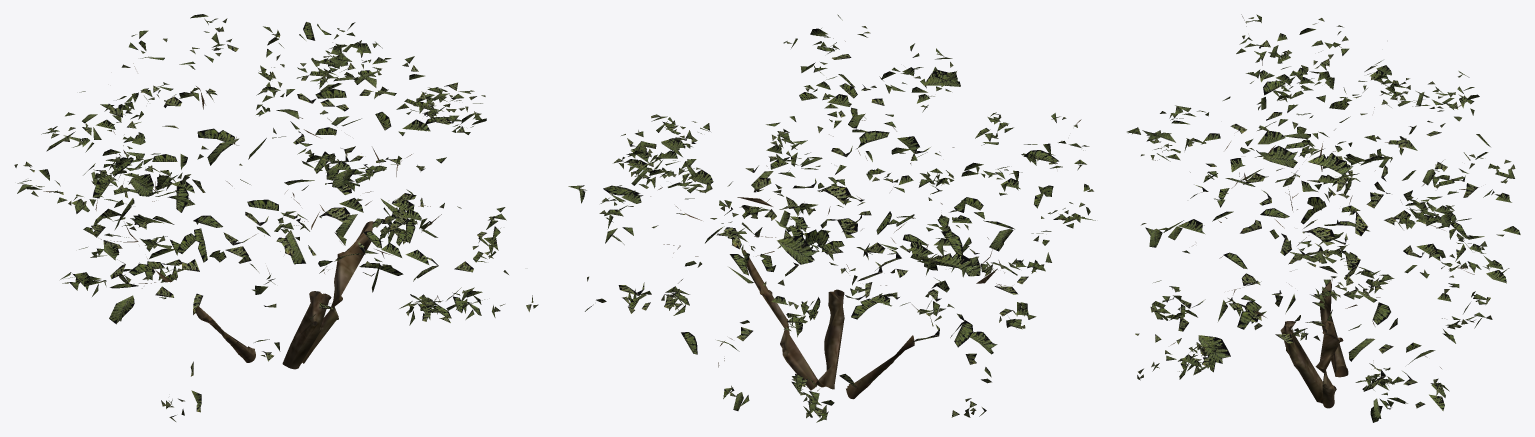
The model's file is arbre_jacaranda_lod2.glb.
3 renders of one model, left to right at view 1: azimuth 30°, elevation 25°; view 2: azimuth 150°, elevation 25°; view 3: azimuth 270°, elevation 25°, orthographic. The views are drawn at different scales.
Visible parts, largest first — view 1: jacaranda_tree_LOD0; view 2: jacaranda_tree_LOD0; view 3: jacaranda_tree_LOD0.
Boxes of the visible parts, x1=… form: jacaranda_tree_LOD0: x1=14, y1=14, x2=538, y2=421; jacaranda_tree_LOD0: x1=568, y1=14, x2=1095, y2=422; jacaranda_tree_LOD0: x1=1127, y1=14, x2=1520, y2=422.
Bounding box in the file's own units: 23.47 × 16.77 × 17.52.
3 materials, 3 textured.
